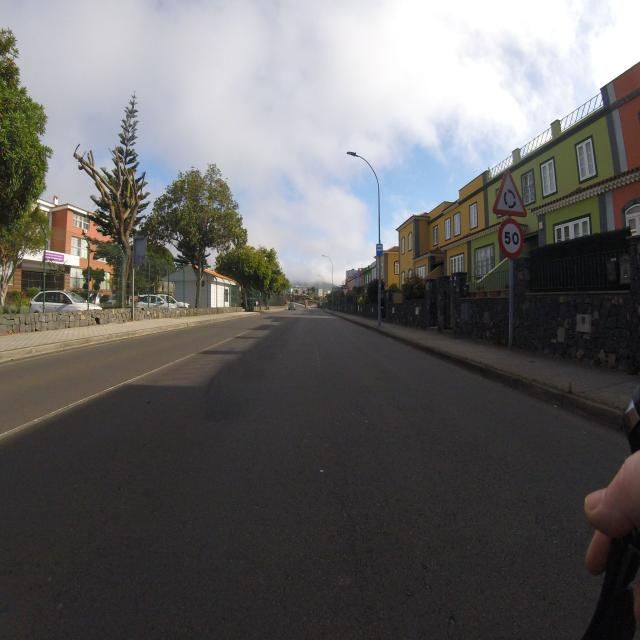car: (28, 288, 104, 322), (160, 294, 191, 310), (136, 294, 166, 310), (286, 300, 296, 310)
